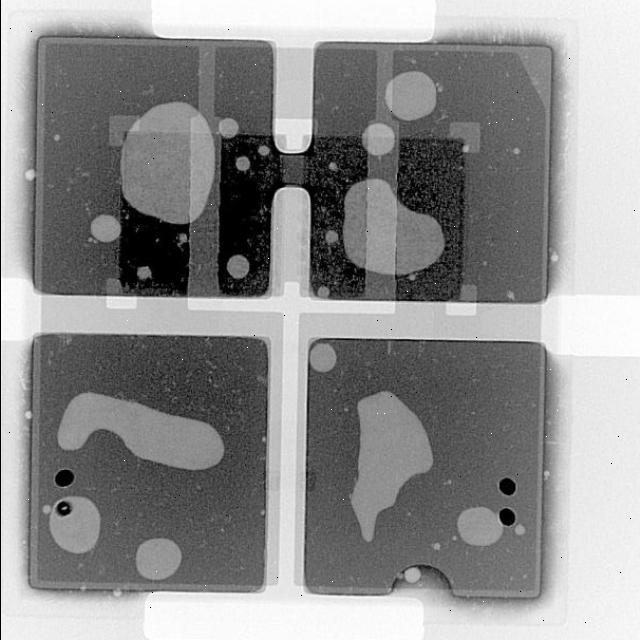Chip: (35, 37, 550, 301), (304, 338, 547, 598), (29, 332, 269, 594), (151, 0, 434, 48), (144, 594, 422, 640), (543, 294, 640, 356), (274, 87, 309, 150), (0, 276, 33, 340), (445, 302, 476, 316)
void: (56, 393, 222, 469), (323, 54, 482, 131), (350, 392, 432, 541), (120, 102, 214, 223), (343, 178, 444, 274), (49, 496, 99, 553), (384, 72, 435, 119), (135, 538, 181, 580), (456, 506, 504, 546), (446, 121, 479, 152), (362, 123, 394, 154), (309, 342, 336, 372), (90, 215, 120, 242), (226, 255, 249, 279), (218, 119, 238, 137), (399, 567, 420, 582), (324, 230, 338, 244), (236, 155, 249, 170), (138, 267, 150, 278), (316, 286, 328, 297), (513, 524, 525, 534), (24, 169, 34, 180), (258, 145, 268, 154), (52, 134, 60, 144), (42, 505, 51, 513), (431, 542, 440, 550), (327, 163, 337, 170), (24, 411, 31, 419), (542, 471, 549, 479)
